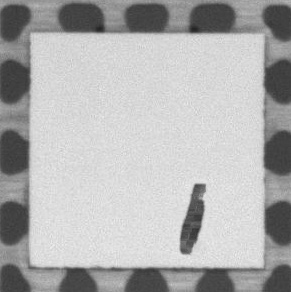DIE_INK: (170, 179, 205, 252)
